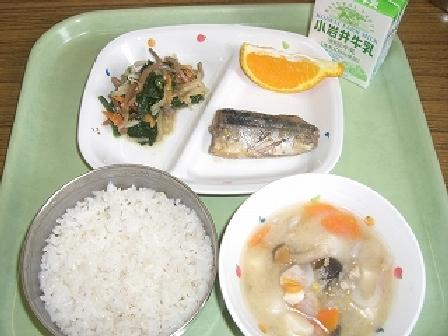Citrus: (237, 30, 344, 104)
Fish: (204, 89, 320, 182)
Milk: (310, 0, 404, 85)
Rice: (12, 159, 217, 335)
Salad: (109, 44, 210, 149)
Soups: (218, 173, 430, 335)
